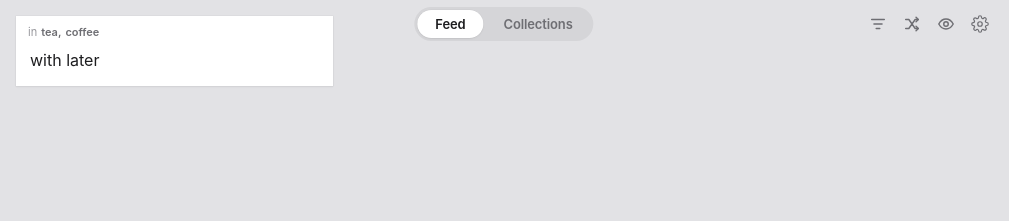
it: HistoryPage collections › collection selection composes with /tag search terms and feeds the no-matches empty state
What coordinates should you click on to do the following:
click the tab with class "board-tab" showing "Collections"
I would click on:
 (538, 24)
Its box is x1=486 y1=10 x2=591 y2=38.
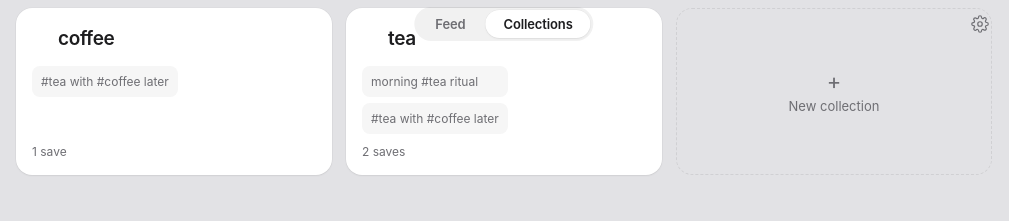
What coordinates should you click on to do the following:
click the button "tea morning #tea ritual #tea with #coffee later 2 saves"
I would click on:
 (504, 92)
Its box is x1=346 y1=8 x2=662 y2=175.
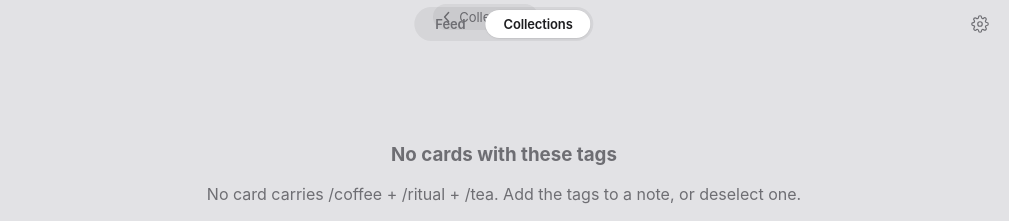
Expected: the text "No cards with these tags" is shown, x1=391 y1=143 x2=617 y2=166
